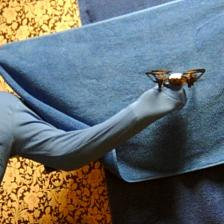drone: (146, 69, 206, 89)
